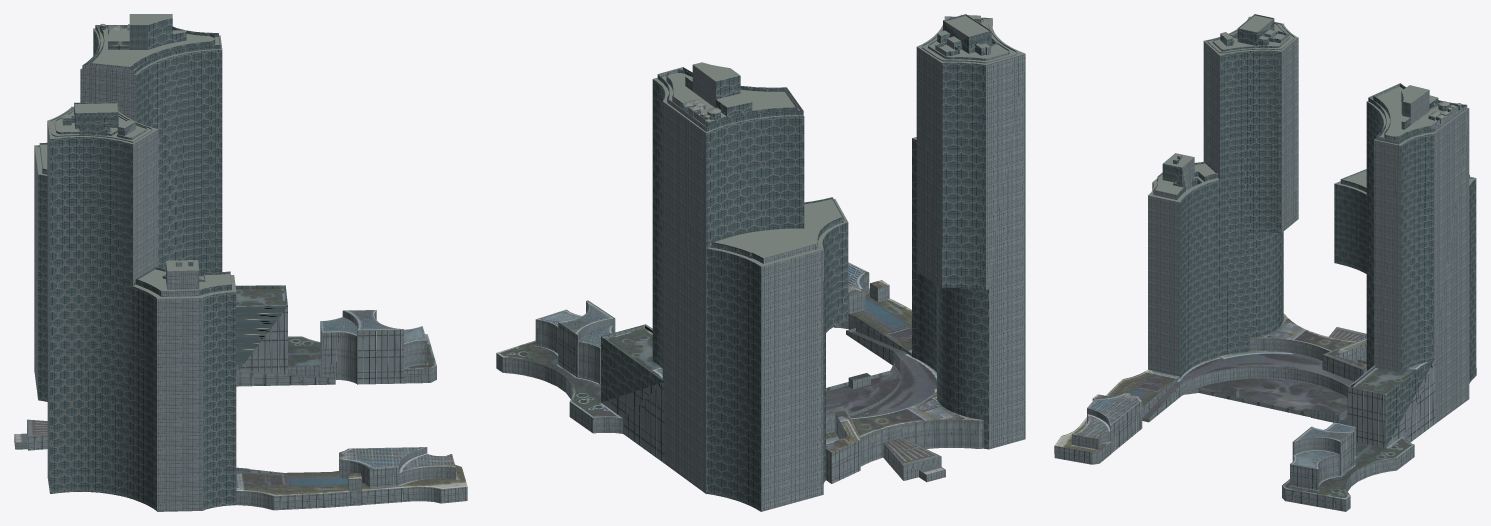
The picture shows the model from 3 angles, left to right: view 1: azimuth 30°, elevation 25°; view 2: azimuth 150°, elevation 25°; view 3: azimuth 270°, elevation 25°; orthographic projection. The views are drawn at different scales.
Visible parts, largest first — view 1: DUO hexagonal sunshades, DUO surveyed podium and roofs, DUO exposed window bays; view 2: DUO hexagonal sunshades, DUO exposed window bays, DUO surveyed podium and roofs; view 3: DUO hexagonal sunshades, DUO surveyed podium and roofs, DUO exposed window bays.
Boxes of the visible parts, <box> form: DUO hexagonal sunshades: <box>36,18,287,510</box>; DUO surveyed podium and roofs: <box>14,14,467,510</box>; DUO exposed window bays: <box>34,25,231,511</box>; DUO hexagonal sunshades: <box>601,14,1017,511</box>; DUO exposed window bays: <box>658,17,1025,511</box>; DUO surveyed podium and roofs: <box>496,14,1025,483</box>; DUO hexagonal sunshades: <box>1152,14,1476,447</box>; DUO surveyed podium and roofs: <box>1054,14,1475,511</box>; DUO exposed window bays: <box>1148,19,1473,423</box>.
Bounding box in the file's own units: 230 × 189 × 222.
3 materials, 3 textured.
